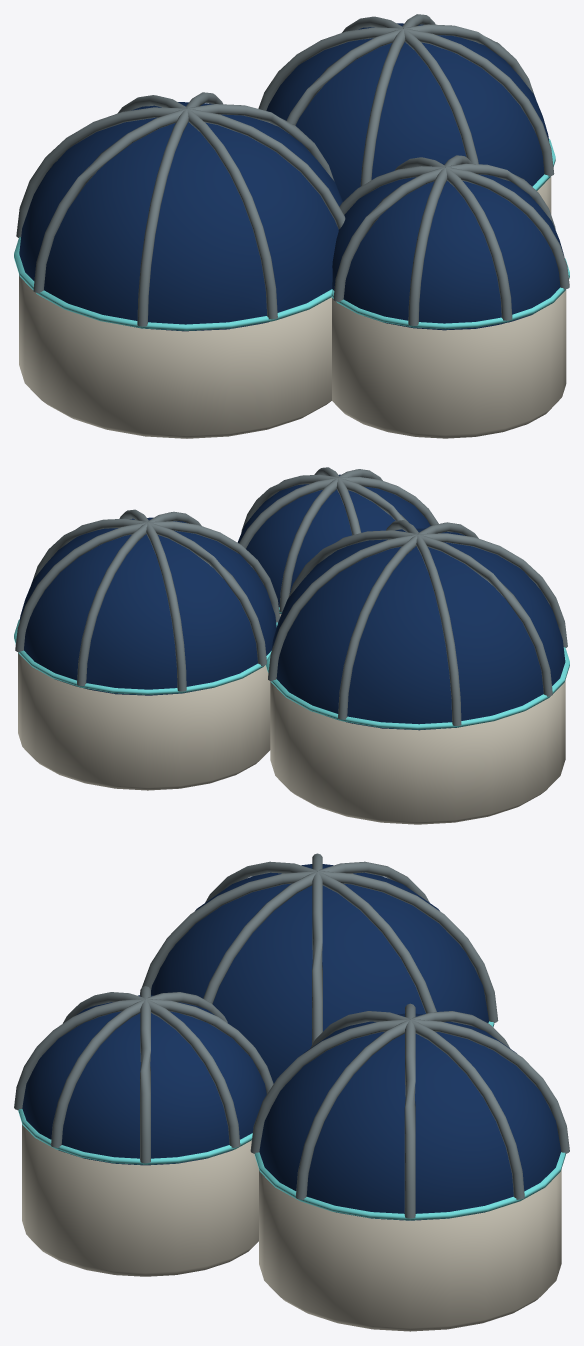
The model's file is cryo_greenhouse.glb.
The picture shows the model from 3 angles, top to bottom: view 1: azimuth 30°, elevation 25°; view 2: azimuth 150°, elevation 25°; view 3: azimuth 270°, elevation 25°; orthographic projection. The views are drawn at different scales.
Visible parts, largest first — view 1: cryo_greenhouse; view 2: cryo_greenhouse; view 3: cryo_greenhouse.
Part boxes in pixels (<box>): cryo_greenhouse: <box>14,14,569,438</box>; cryo_greenhouse: <box>14,467,569,824</box>; cryo_greenhouse: <box>14,853,569,1331</box>.
Size of the model in its own units: 18.89 by 9.31 by 16.18.
